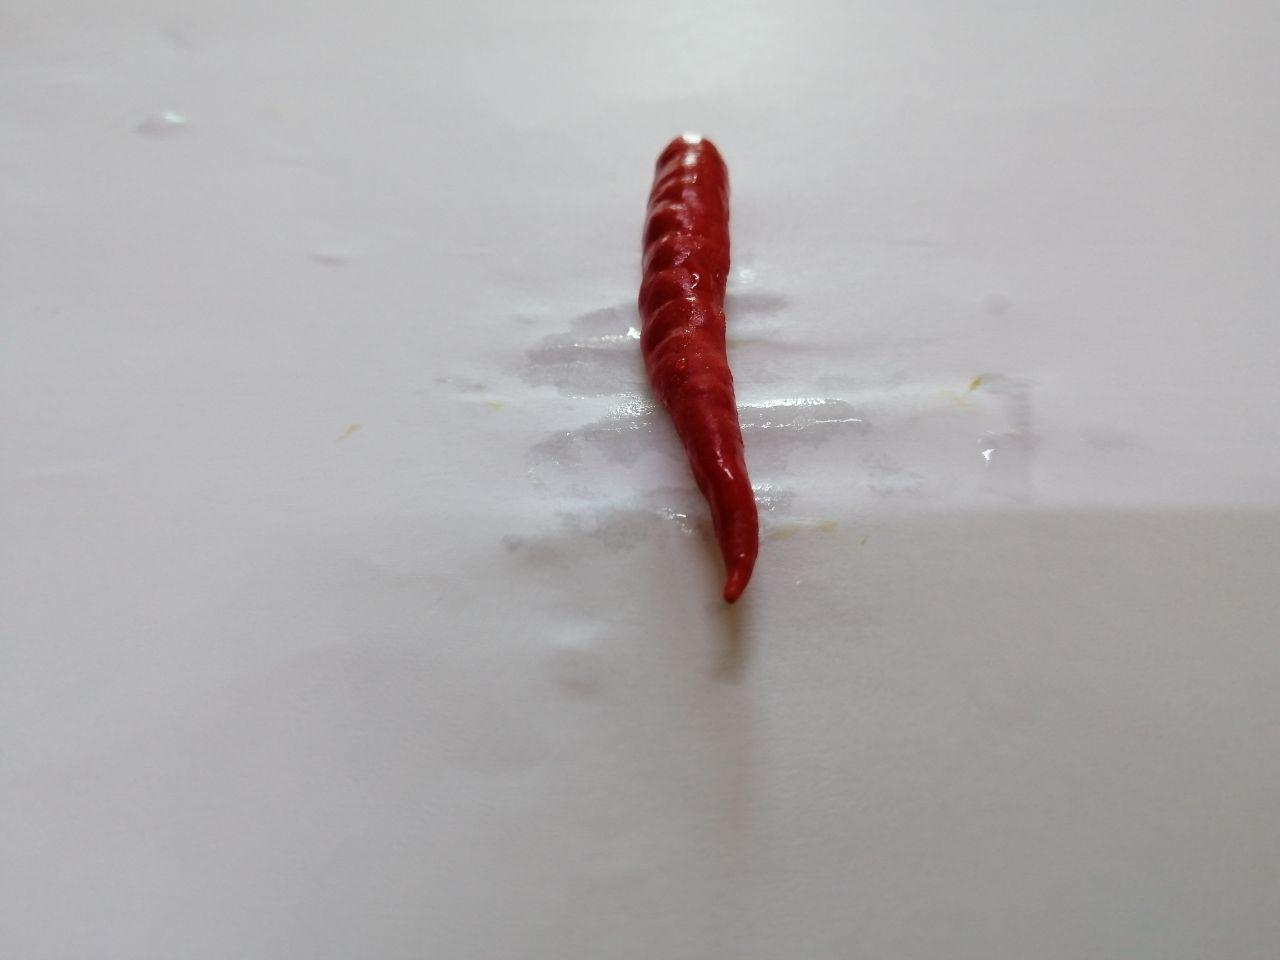lada merah: (619, 117, 808, 619)
